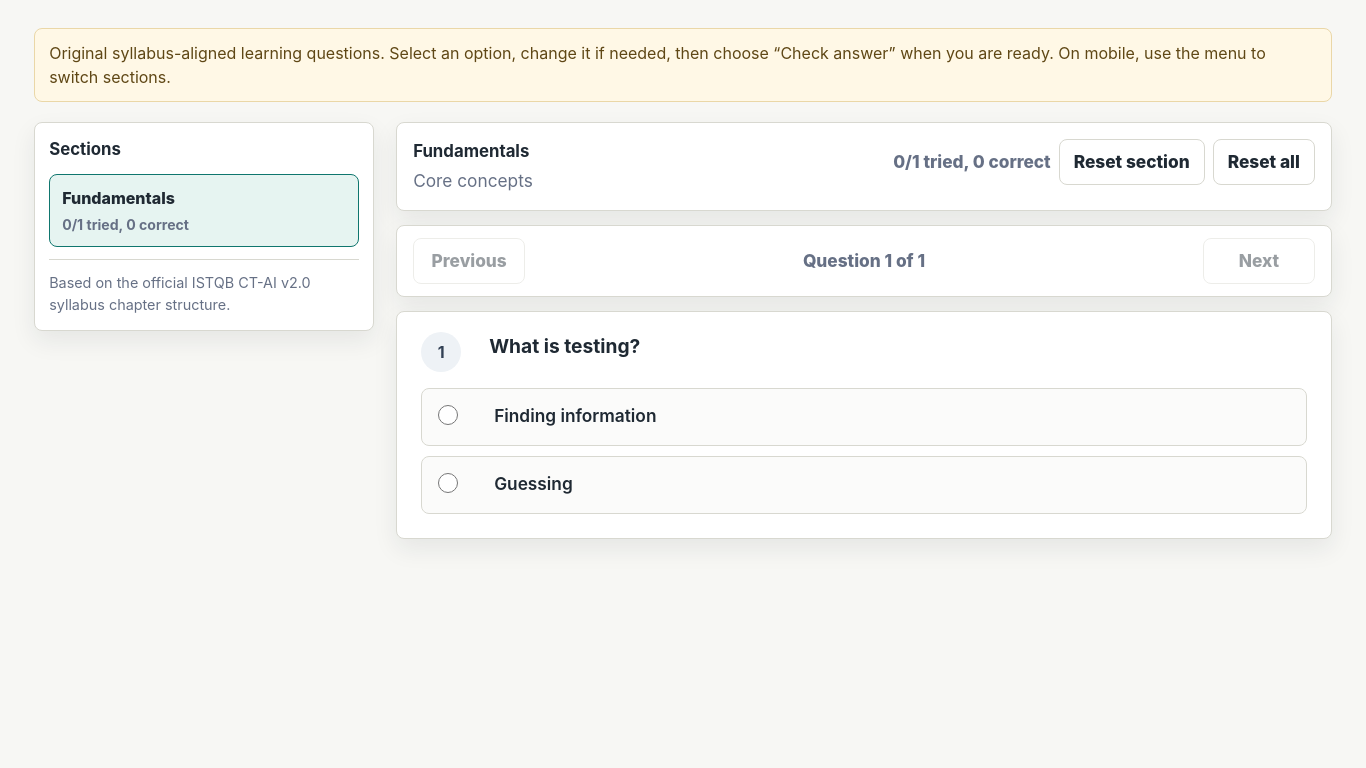
Test: BankPage › shows immediate feedback after selecting an answer
The image size is (1366, 768).
Check: the text "official ISTQB CT-AI v2.0 syllabus" is shown, box [49,259,359,316]
Click the radio button labelled "Finding information".
click(448, 415)  # box [438,405,458,425]
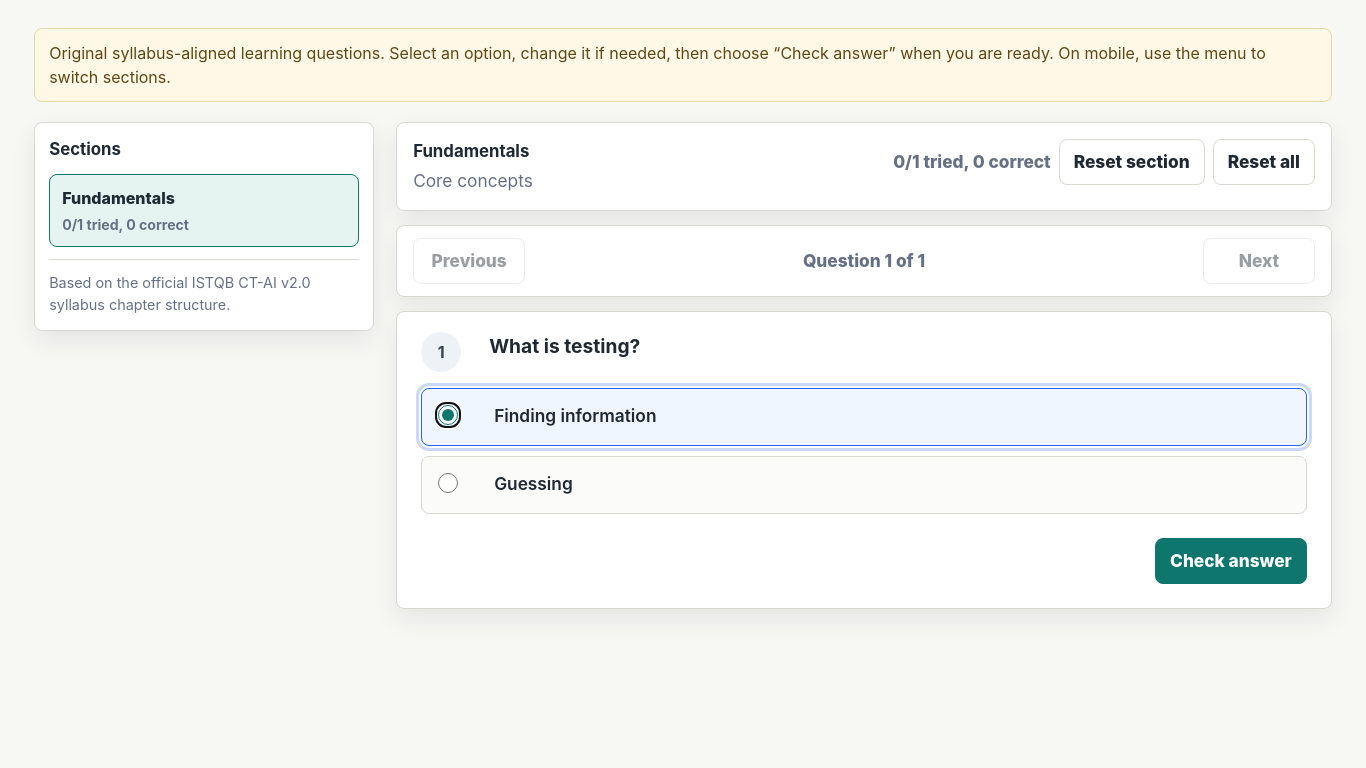
Check: the button "Check answer" is shown
Click the button "Check answer".
click(1231, 561)  # box [1155,538,1307,584]
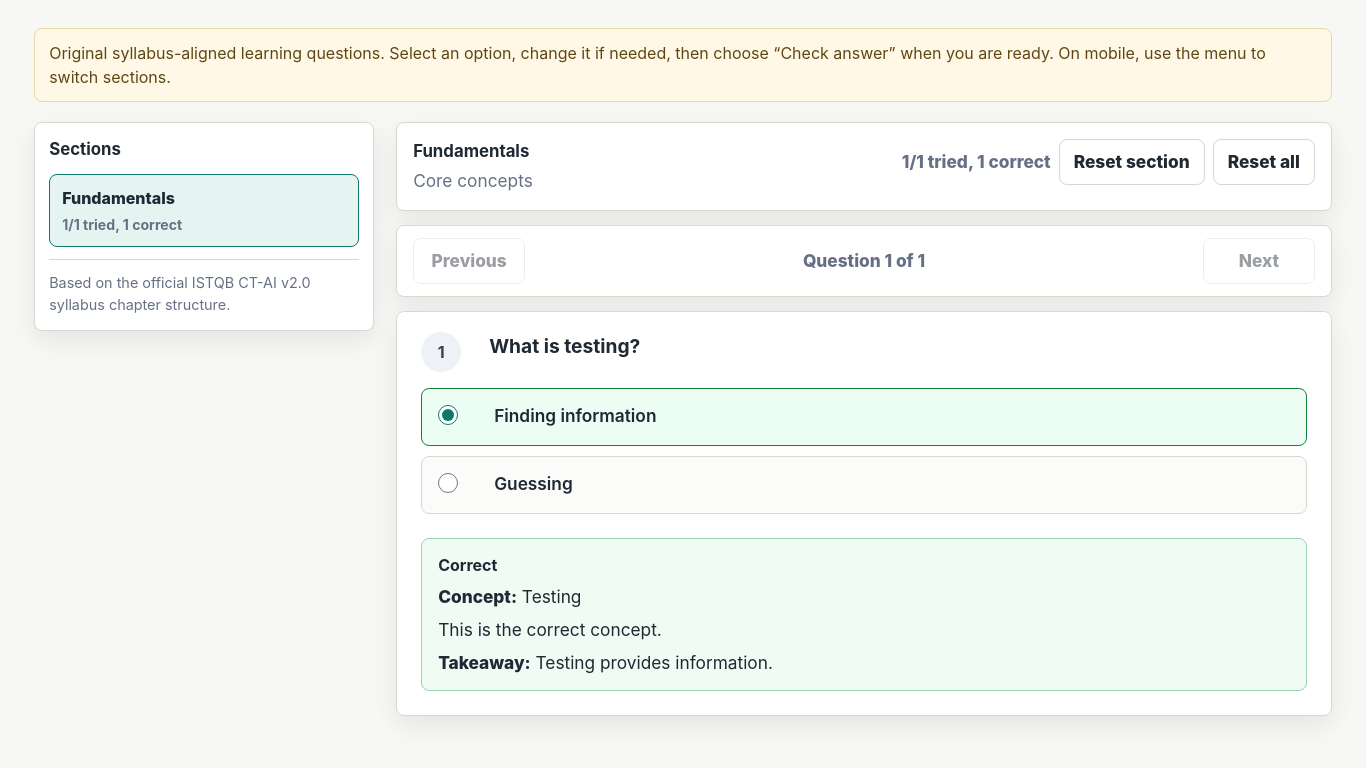
Check: the text "Correct" is shown, box [438,555,497,575]
Check: the text "Testing provides information." is shown, box [536,652,773,673]
